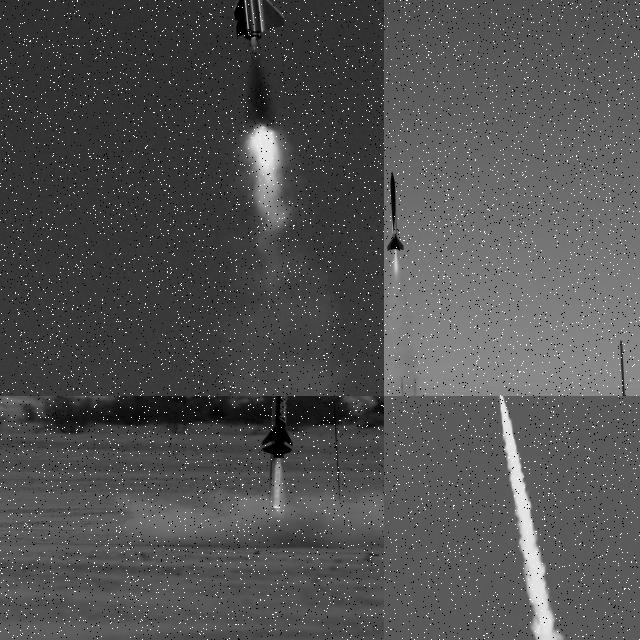Rocket: (261, 396, 293, 459), (386, 172, 404, 252)
